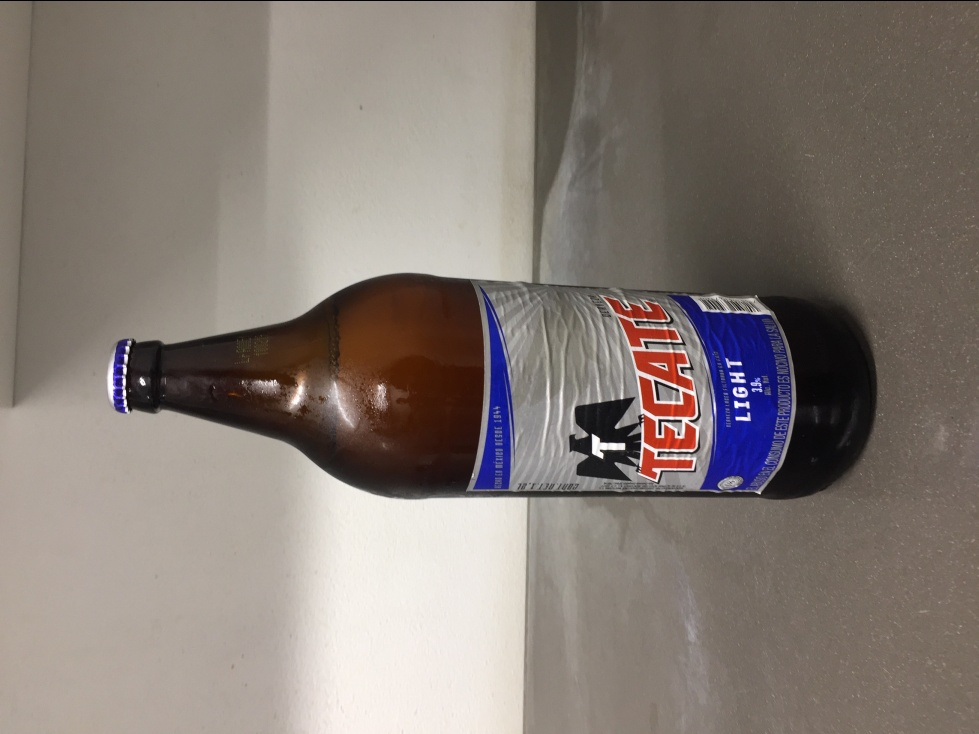tecateC: (107, 273, 872, 499)
